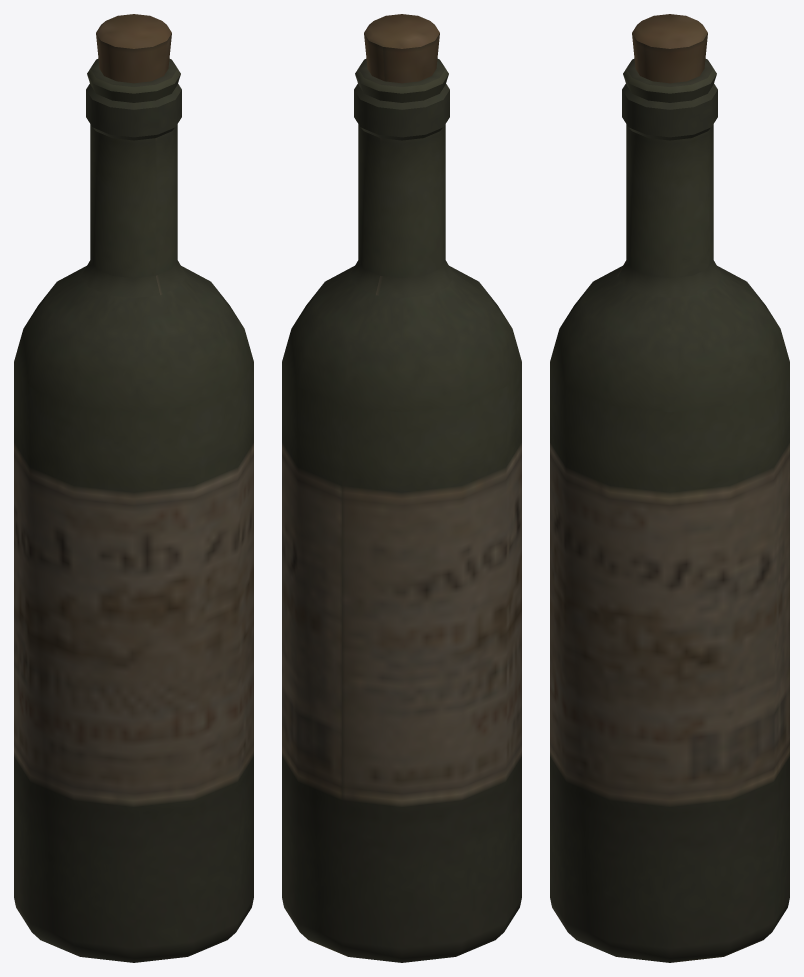
File: glass_bottle_mx_3.obj
3 renders of one model, left to right at view 1: azimuth 30°, elevation 25°; view 2: azimuth 150°, elevation 25°; view 3: azimuth 270°, elevation 25°, orthographic.
Visible parts, largest first — view 1: glass_bottle_mx_3; view 2: glass_bottle_mx_3; view 3: glass_bottle_mx_3.
Part boxes in pixels (<box>): glass_bottle_mx_3: <box>14,14,253,962</box>; glass_bottle_mx_3: <box>282,14,521,962</box>; glass_bottle_mx_3: <box>550,14,789,962</box>.
Bounding box in the file's own units: 0.1198 × 0.49 × 0.1198.
